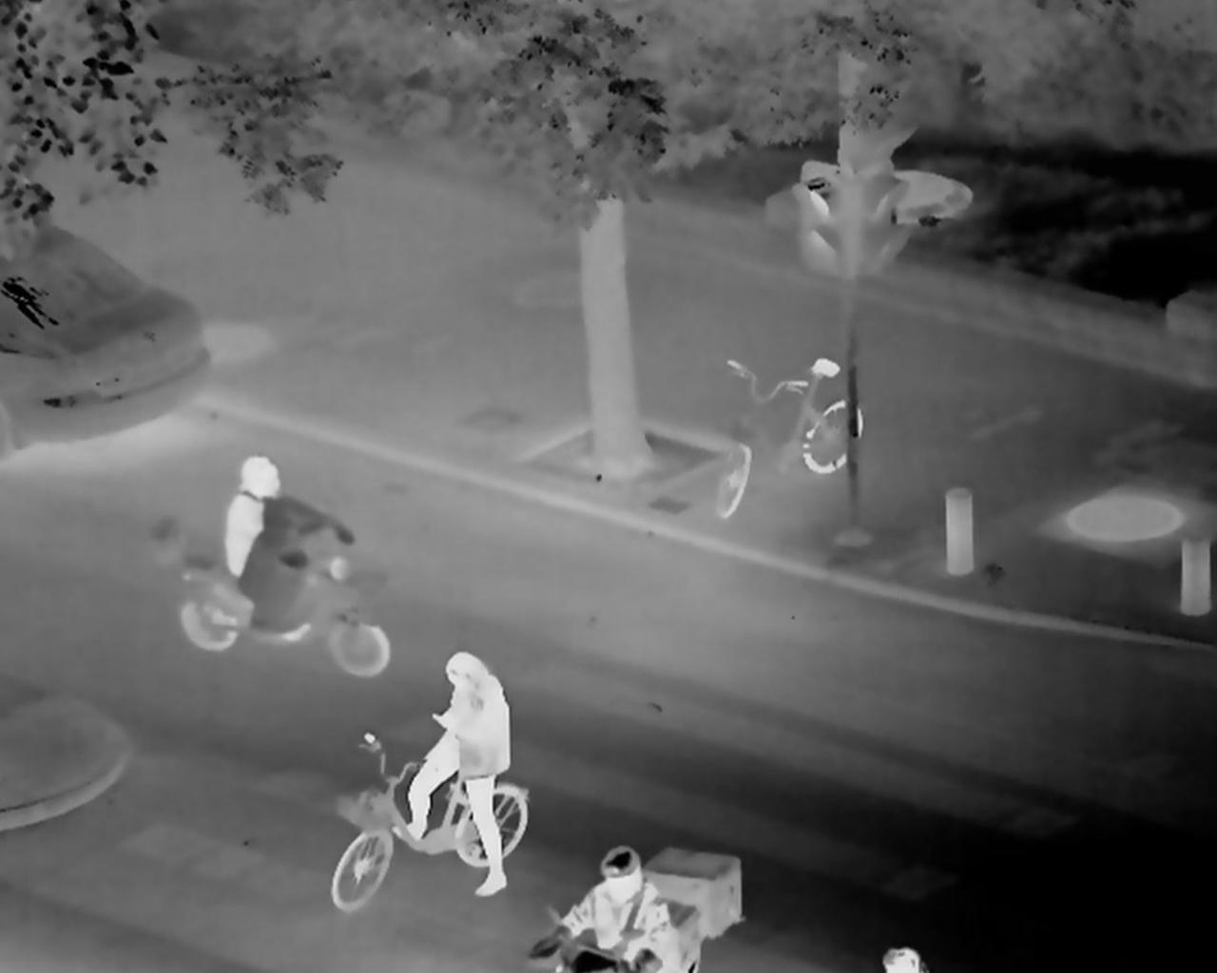person: (392, 652, 513, 895), (220, 450, 357, 651), (548, 844, 676, 973)
